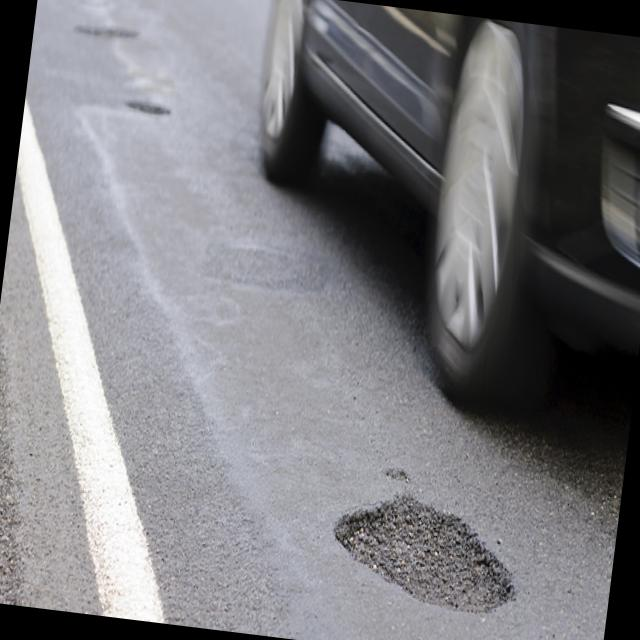Potholes: (323, 451, 538, 640), (62, 0, 168, 62), (118, 79, 194, 141)
